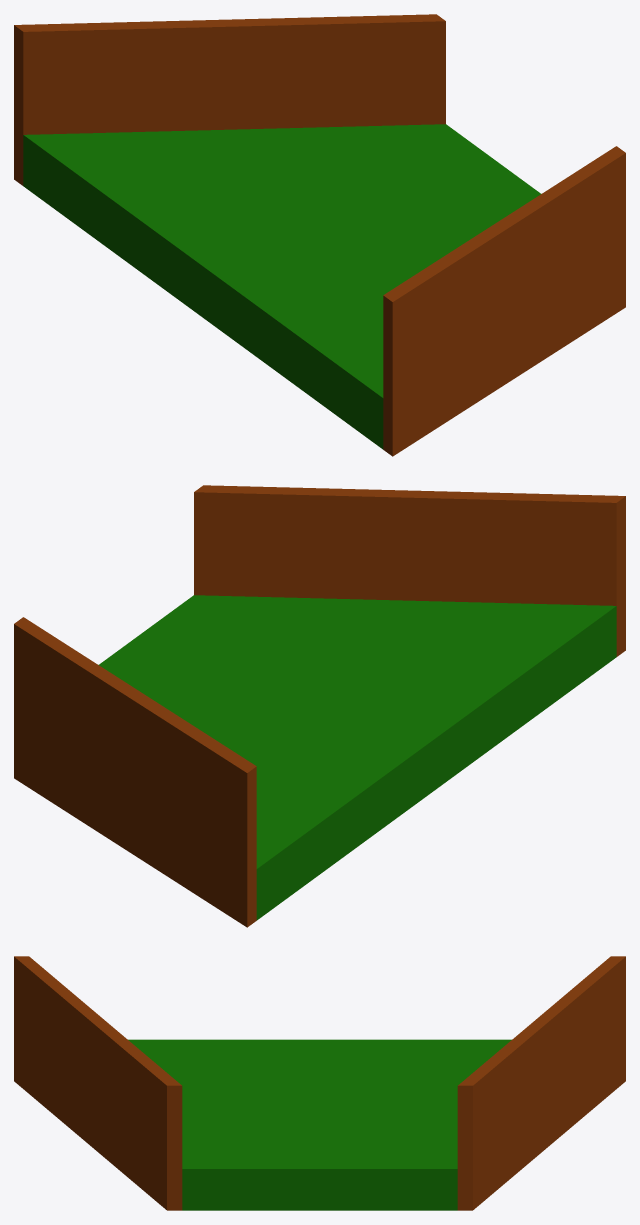
The model's file is narrower.fbx.
3 views of the same model, one above another, from view 1: azimuth 30°, elevation 25°; view 2: azimuth 150°, elevation 25°; view 3: azimuth 270°, elevation 25° (orthographic). The views are drawn at different scales.
Parts seen in each view (by area): view 1: Plane; view 2: Plane; view 3: Plane.
Boxes of the visible parts, <box> form: Plane: <box>14,14,625,456</box>; Plane: <box>14,485,625,927</box>; Plane: <box>14,956,625,1210</box>.
Bounding box in the file's own units: 200 × 90 × 400.
